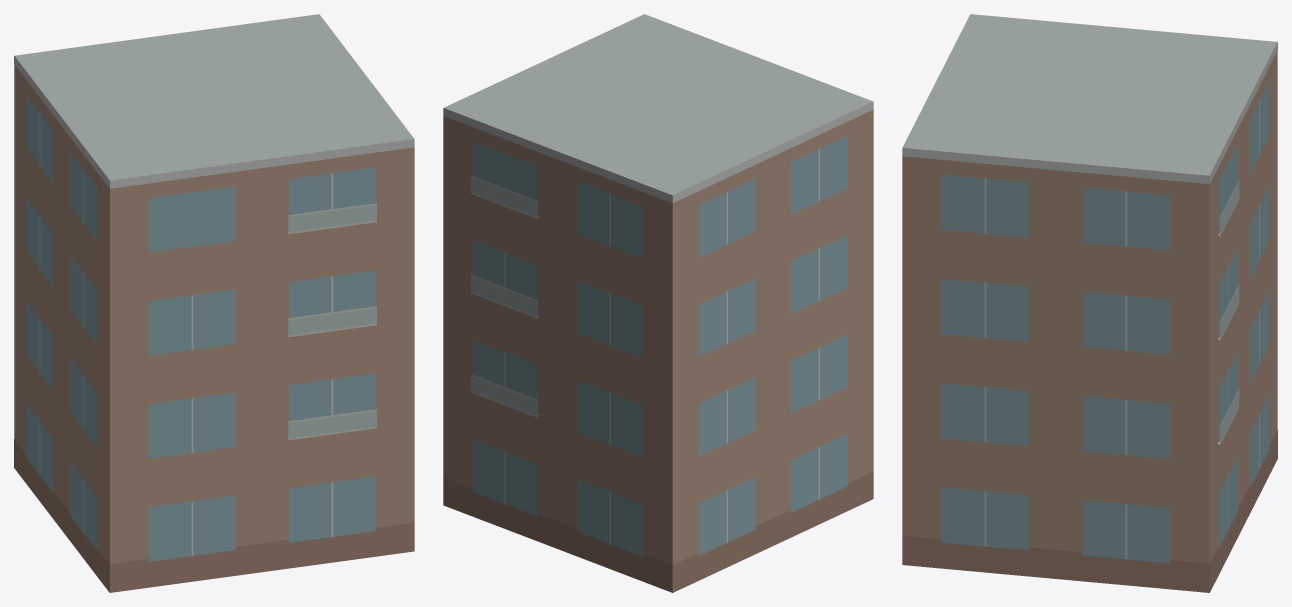
The model's file is residential-b99acd35-8dc3-4435-8e5c-8a9f9d21c599.glb.
The picture shows the model from 3 angles, left to right: view 1: azimuth 30°, elevation 25°; view 2: azimuth 150°, elevation 25°; view 3: azimuth 270°, elevation 25°; orthographic projection. The views are drawn at different scales.
Visible parts, largest first — view 1: residential-b99acd35-8dc3-4435-8e5c-8a9f9d21c599.tmp; view 2: residential-b99acd35-8dc3-4435-8e5c-8a9f9d21c599.tmp; view 3: residential-b99acd35-8dc3-4435-8e5c-8a9f9d21c599.tmp.
Part boxes in pixels (x1,y1,x2,y2): residential-b99acd35-8dc3-4435-8e5c-8a9f9d21c599.tmp: [14, 14, 414, 592]; residential-b99acd35-8dc3-4435-8e5c-8a9f9d21c599.tmp: [443, 14, 873, 592]; residential-b99acd35-8dc3-4435-8e5c-8a9f9d21c599.tmp: [902, 14, 1277, 592].
Size of the model in its own units: 10.16 by 12.2 by 9.96.
